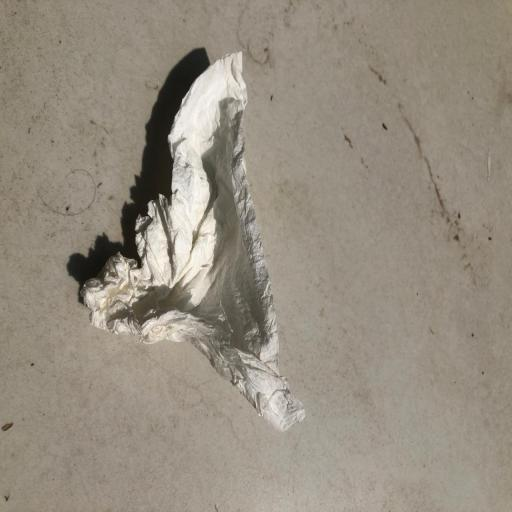waste: (71, 44, 337, 446)
